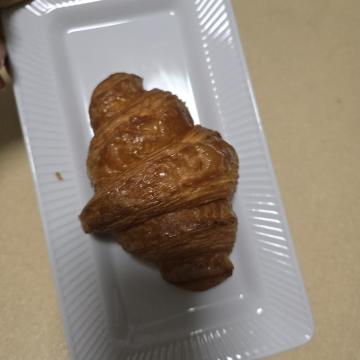croissant: (62, 113, 303, 295)
